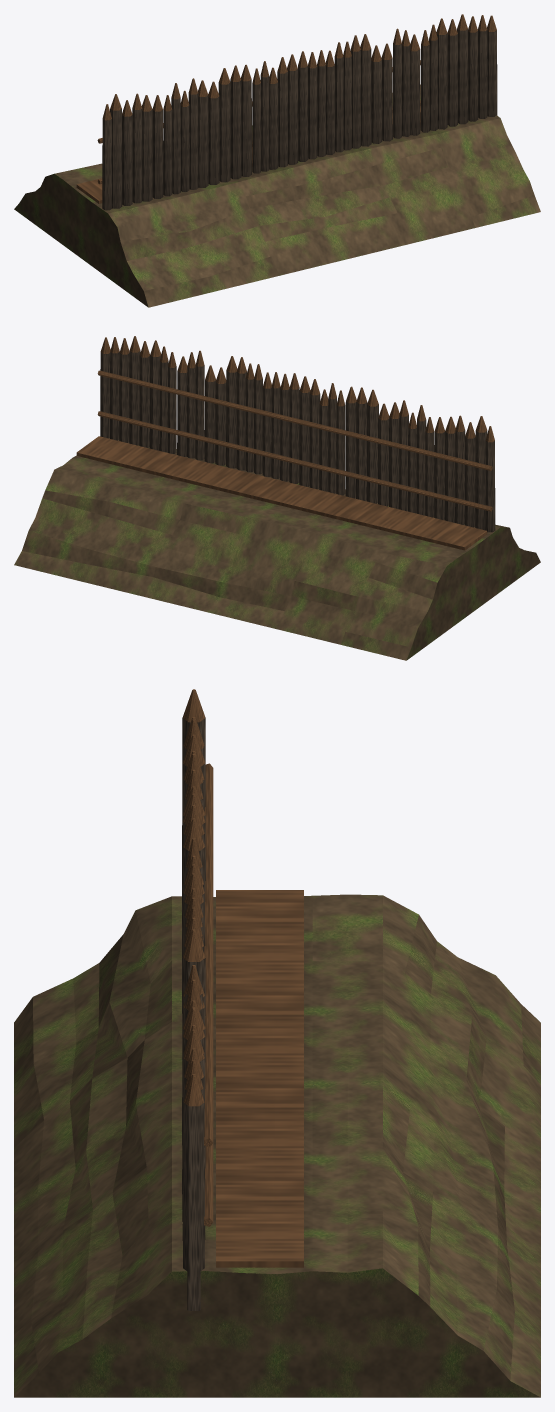
The model's file is recinto_tratto.glb.
The picture shows the model from 3 angles, top to bottom: view 1: azimuth 30°, elevation 25°; view 2: azimuth 150°, elevation 25°; view 3: azimuth 270°, elevation 25°; orthographic projection. The views are drawn at different scales.
Visible parts, largest first — view 1: recinto_tratto; view 2: recinto_tratto; view 3: recinto_tratto.
Part boxes in pixels (x1=…): recinto_tratto: x1=14, y1=14, x2=540, y2=307; recinto_tratto: x1=14, y1=336, x2=540, y2=660; recinto_tratto: x1=14, y1=689, x2=540, y2=1397.
Size of the model in its own units: 10.12 by 4.35 by 6.
3 materials, 3 textured.
